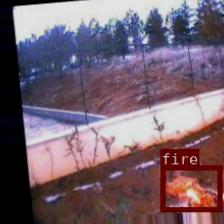fire: (160, 165, 222, 211)
